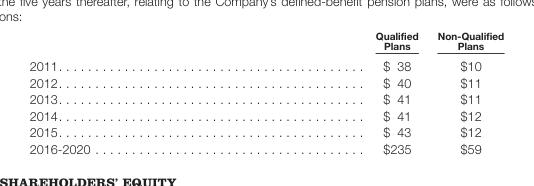table: (28, 29, 503, 155)
table column: (28, 29, 232, 155), (232, 29, 427, 155), (427, 29, 503, 155)
table column header: (28, 29, 503, 54)
table row: (28, 29, 503, 54), (28, 54, 503, 73), (28, 73, 503, 90), (28, 106, 503, 123), (28, 90, 503, 106), (28, 123, 503, 139), (28, 139, 503, 155)
